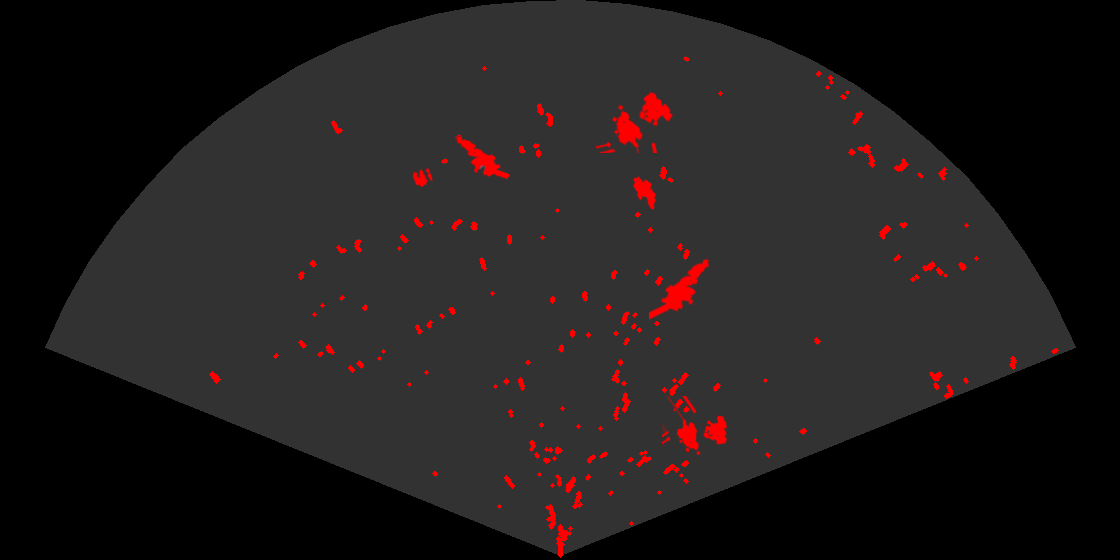AUV: (631, 175, 658, 212)
ball: (411, 167, 435, 189)
cage: (596, 90, 675, 153), (662, 396, 729, 457)
frogman: (649, 257, 711, 321), (445, 133, 508, 181)
